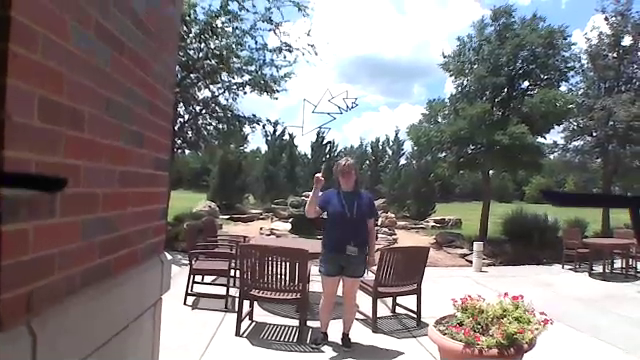up: (308, 159, 329, 192)
